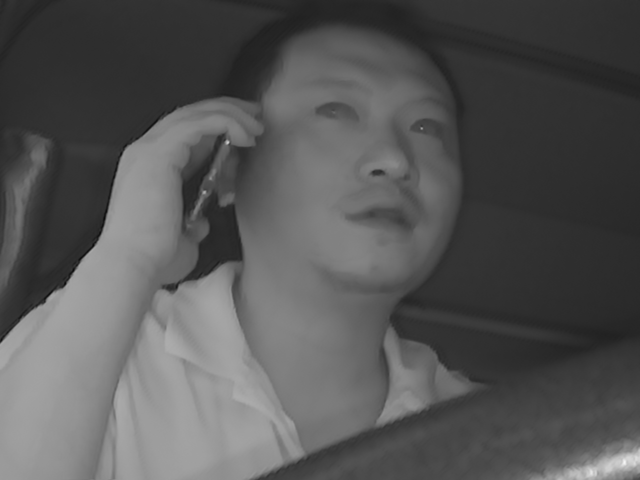hand: (99, 94, 233, 283)
